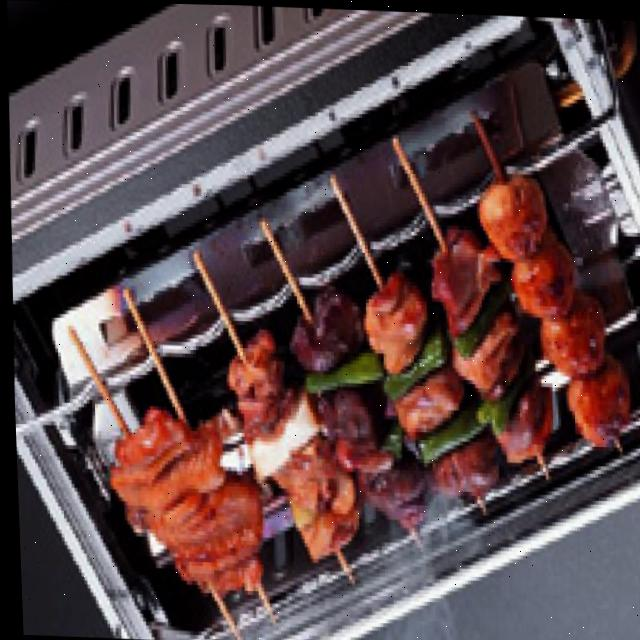烧串烤肉: (138, 2, 640, 640)
